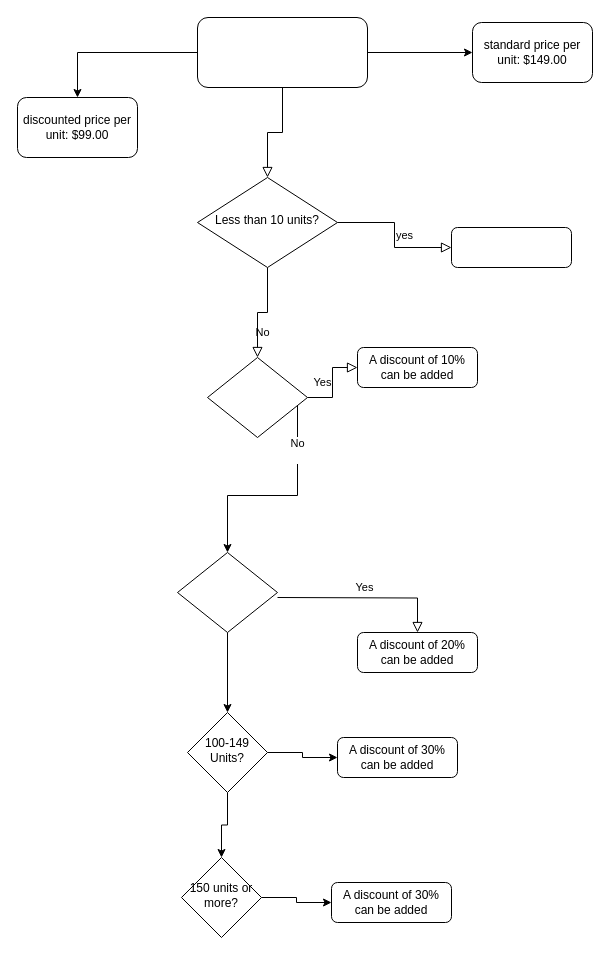
Some shapes in this 610 by 955 pixel diagram are drawn without their labels. Here are the shapes that lost their labels. From the top down, the box of each, then its label:
(196, 16, 368, 88): Geekware Software Company bulk pricing Discount Calculator
(450, 226, 572, 268): No discount can be applied
(206, 356, 308, 438): 10-49 units?
(176, 552, 278, 632): 50-99 Units?
